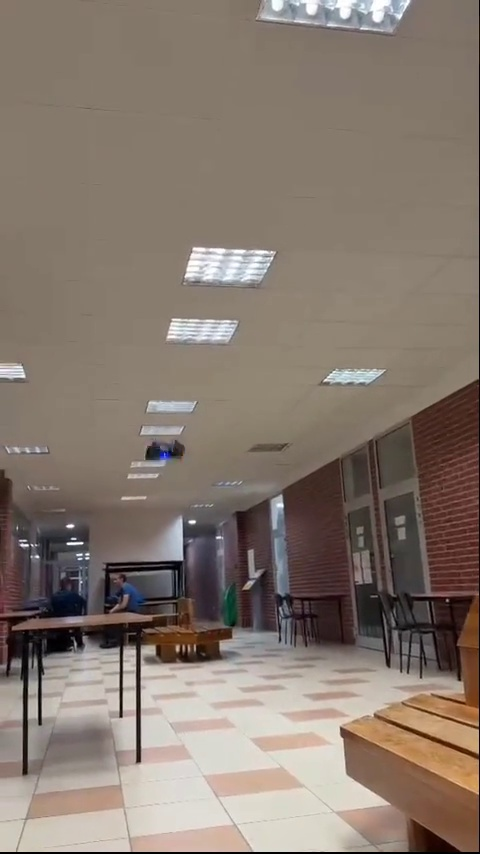drone: (141, 439, 187, 463)
no vest: (49, 577, 90, 616), (107, 572, 141, 613)
